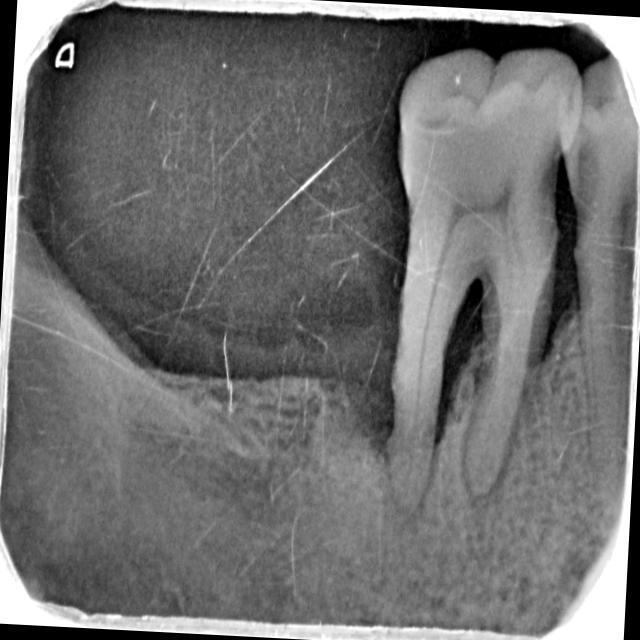individual-tooth-8tto: (386, 46, 585, 507)
